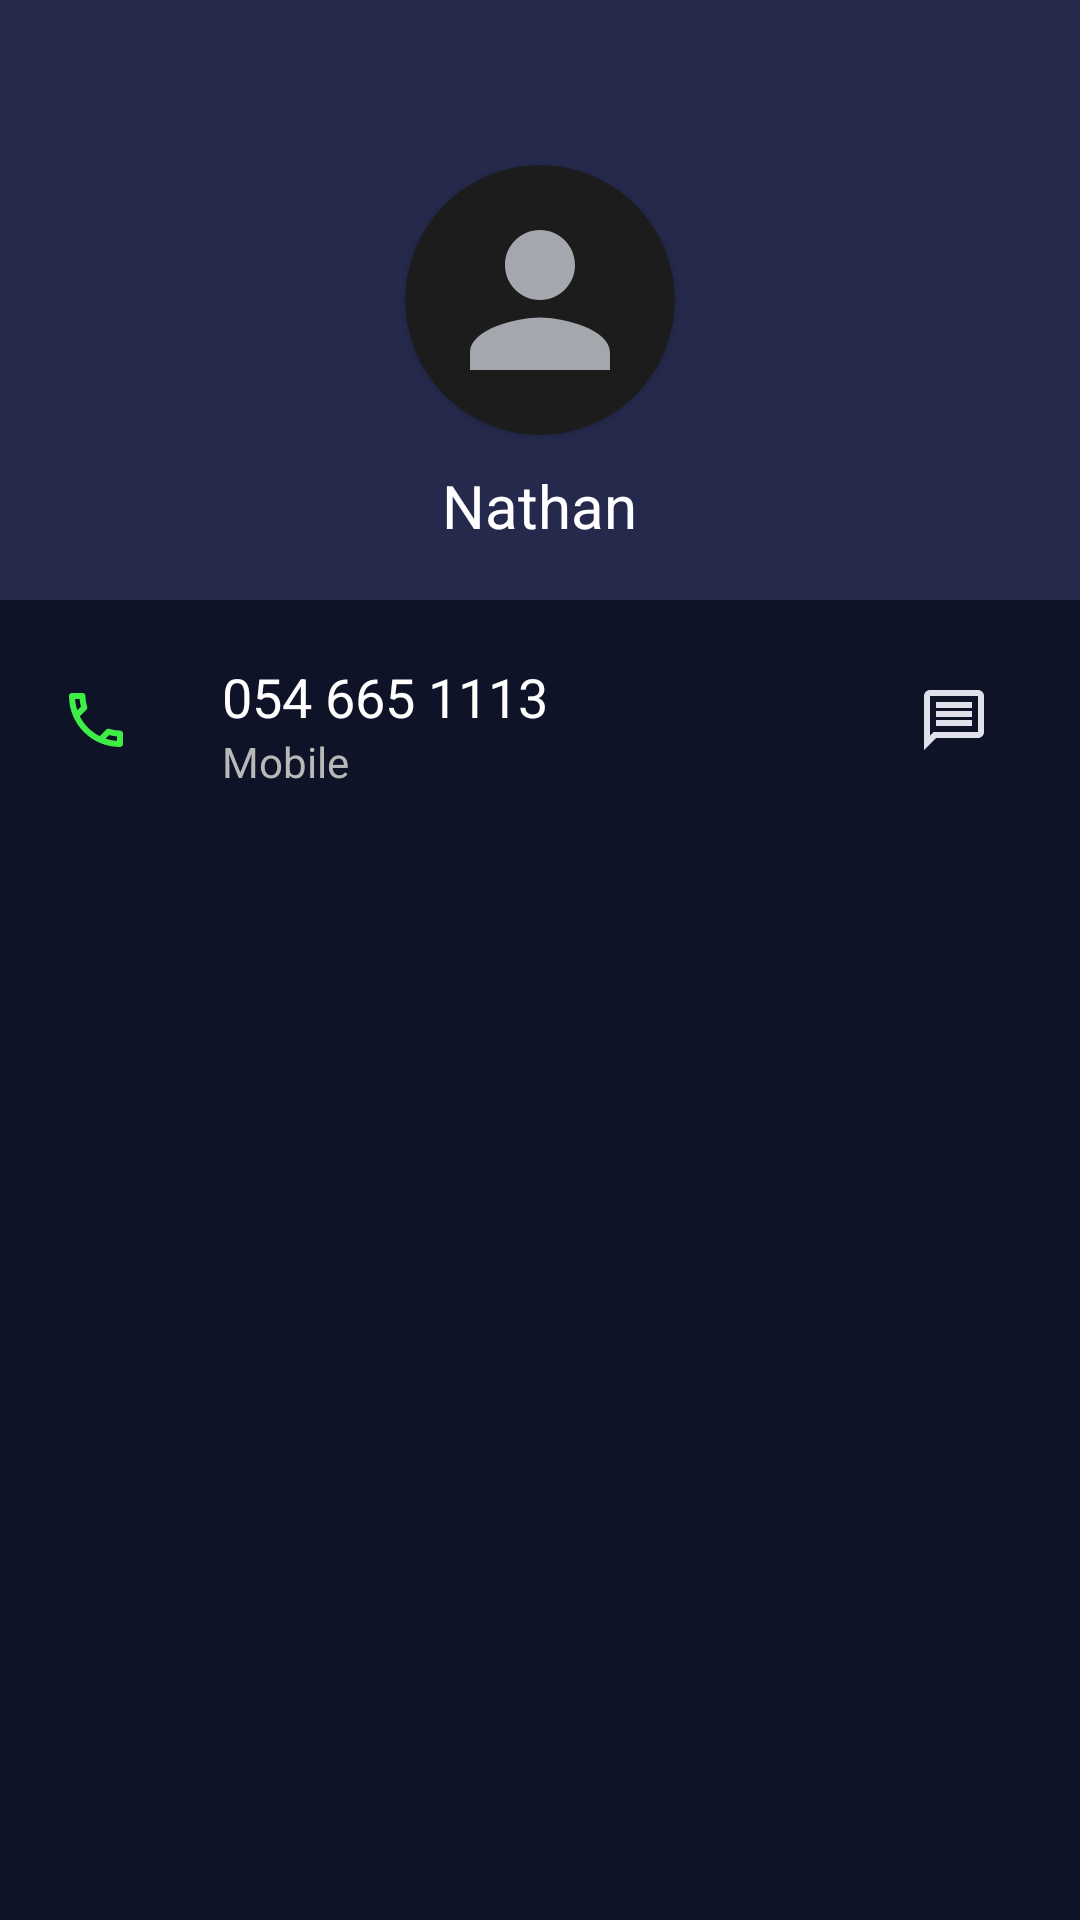

Where to tap for icons on this 1080px x 1920px app screen, as (x,y):
account: (540,300)
call: (96,720)
message: (954,720)
